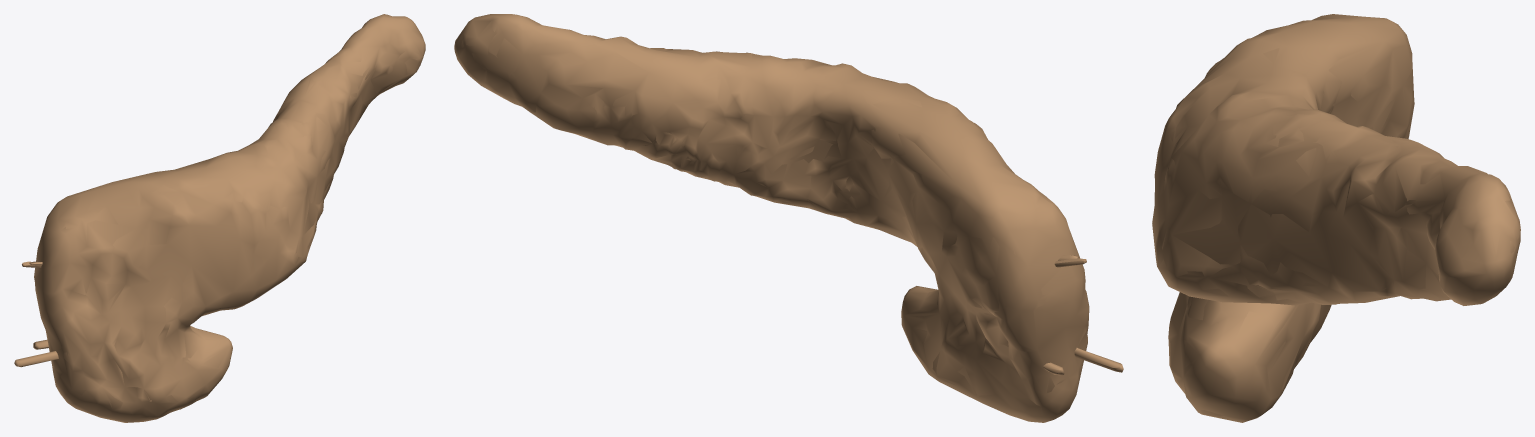
The model's file is pancreas.glb.
3 views of the same model, side by side, from view 1: azimuth 30°, elevation 25°; view 2: azimuth 150°, elevation 25°; view 3: azimuth 270°, elevation 25° (orthographic). The views are drawn at different scales.
Parts seen in each view (by area): view 1: pancreas; view 2: pancreas; view 3: pancreas.
Boxes of the visible parts, <box> form: pancreas: <box>14,14,425,422</box>; pancreas: <box>454,14,1123,422</box>; pancreas: <box>1152,14,1520,422</box>.
Size of the model in its own units: 0.1294 by 0.0737 by 0.051.
